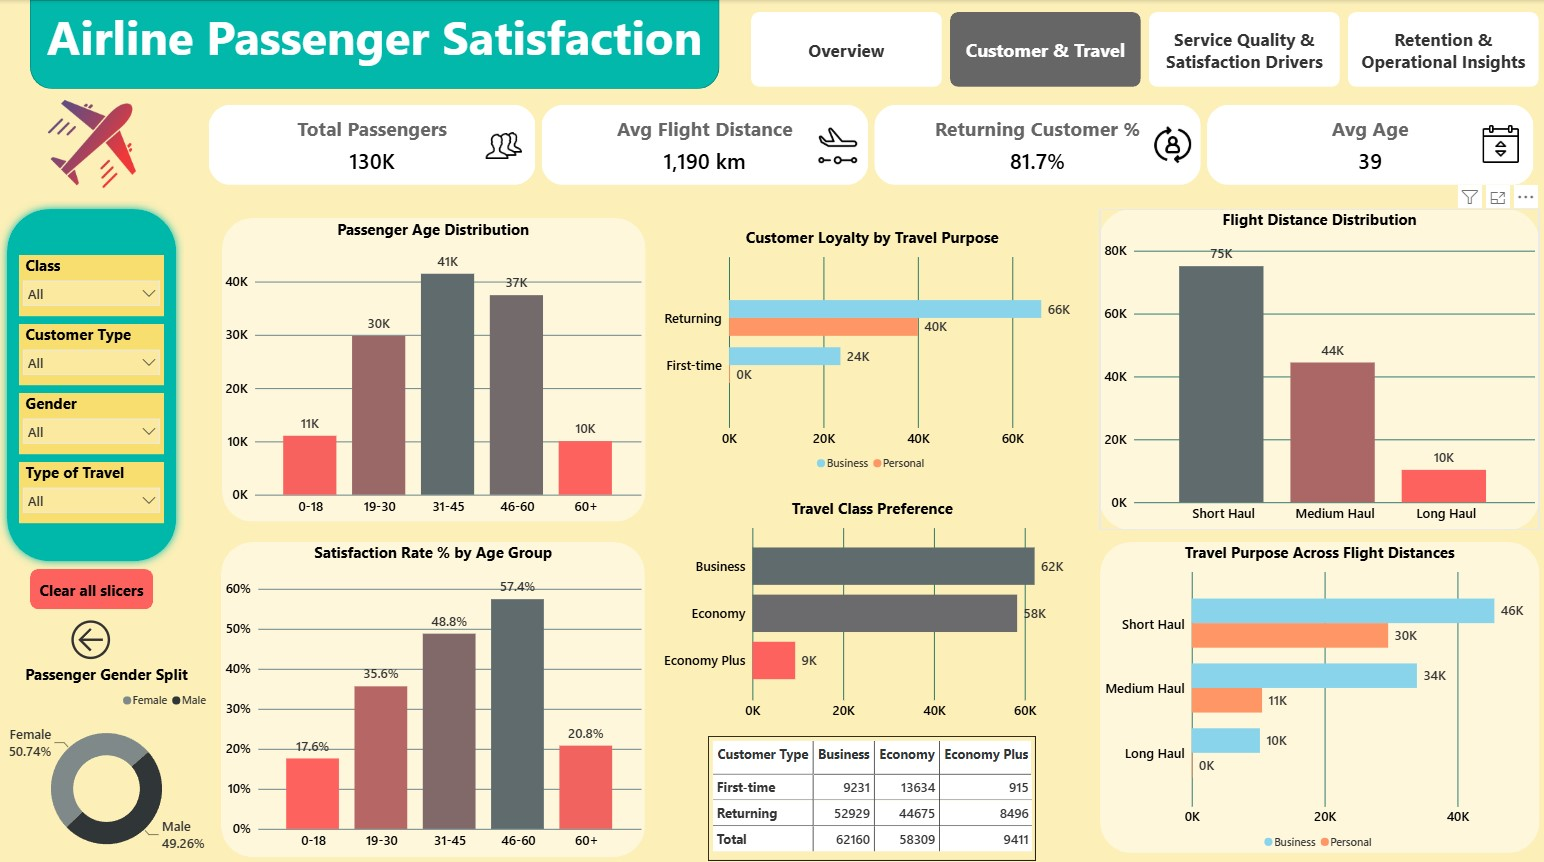

What the dashboard file says about the page in this screenshot:
{"tool":"powerbi","page":{"name":"Customer & Travel","canvas":[1920,1080],"ordinal":1},"visuals":[{"type":"group","id":"g1","title":"Group 1","box":[38.2,0,854.8,110.6],"z":0},{"type":"shape","box":[38.2,0,855.8,110.5],"z":0,"group":"g1"},{"type":"shape","box":[0,248.9,230,457.1],"z":0,"group":"g9"},{"type":"group","id":"g2","title":"Group 5","box":[1365.8,259.5,546.6,399.1],"z":0,"group":"g11"},{"type":"group","id":"g3","title":"Group 5","box":[276.4,270,525.5,376.7],"z":0,"group":"g8"},{"type":"group","id":"g4","title":"Group 4","box":[275.8,673.2,525.5,391.2],"z":0,"group":"g10"},{"type":"group","id":"g5","title":"Group 5","box":[275.8,673.2,525.5,391.2],"z":0,"group":"g4"},{"type":"shape","box":[1365.8,259.5,546.6,399.1],"z":500,"group":"g2"},{"type":"shape","box":[276.4,270,526,377],"z":500,"group":"g3"},{"type":"shape","box":[1367.1,673,545.5,386.3],"z":500,"group":"g6"},{"type":"shape","box":[275.8,673.2,526.5,391.3],"z":500,"group":"g5"},{"type":"textbox","box":[38.2,0.3,855.8,109.1],"z":1000,"group":"g1"},{"type":"pageNavigator","box":[933.8,14.5,978.6,93.5],"z":1000},{"type":"group","id":"g6","title":"Group 5","box":[1367.1,673,545.3,391.2],"z":1000,"group":"g12"},{"type":"group","id":"g7","title":"Group 3","box":[0,248.9,230.5,575.6],"z":2000},{"type":"cardVisual","fields":{"Data":[" Measures.Total Passengers"," Measures.Avg Flight Distance Label"," Measures.Returning Customer %"," Measures.Avg Age"]},"box":[255.9,125.9,1657.1,109.1],"z":3000},{"type":"donutChart","title":"Passenger Gender Split","fields":{"Y":[" Measures.Total Passengers"],"Category":["airline_passenger_satisfaction.Gender"]},"box":[0,824.5,266.9,255.7],"z":4000},{"type":"clusteredColumnChart","title":"Passenger Age Distribution","fields":{"Category":["airline_passenger_satisfaction.Age Group"],"Y":[" Measures.Total Passengers"]},"box":[275.3,271.2,526.8,377.3],"z":5000,"group":"g8"},{"type":"clusteredBarChart","title":"Customer Loyalty by Travel Purpose","fields":{"Series":["airline_passenger_satisfaction.Type of Travel"],"Category":["airline_passenger_satisfaction.Customer Type"],"Y":[" Measures.Total Passengers"]},"box":[819.2,281.9,529.5,312.1],"z":5000},{"type":"barChart","title":"Travel Class Preference","fields":{"Category":["airline_passenger_satisfaction.Class"],"Y":[" Measures.Total Passengers"]},"box":[819.2,617.7,529.5,284.5],"z":6000},{"type":"slicer","fields":{"Values":["airline_passenger_satisfaction.Class"]},"box":[24.8,315.7,180.4,75.5],"z":7000,"group":"g9"},{"type":"actionButton","box":[38.6,706,152.9,50],"z":7000,"group":"g7"},{"type":"pivotTable","fields":{"Rows":["airline_passenger_satisfaction.Customer Type"],"Columns":["airline_passenger_satisfaction.Class"],"Values":[" Measures.Total Passengers"]},"box":[879.8,914,407,155.4],"z":7000},{"type":"group","id":"g8","title":"Group 4","box":[275.3,270,526.8,378],"z":8000},{"type":"group","id":"g9","title":"Group 2","box":[0,248.9,230,457.1],"z":9000,"group":"g7"},{"type":"columnChart","title":"Flight Distance Distribution","fields":{"Y":[" Measures.Total Passengers"],"Category":["airline_passenger_satisfaction.Flight Distance Category"]},"box":[1366.5,259.5,545.3,399.1],"z":9000,"group":"g11"},{"type":"slicer","fields":{"Values":["airline_passenger_satisfaction.Customer Type"]},"box":[24.8,401.5,180.4,75.5],"z":9000,"group":"g9"},{"type":"group","id":"g10","title":"Group 6","box":[275.3,673,526.8,391.2],"z":9000},{"type":"group","id":"g11","title":"Group 7","box":[1365.8,259.5,546.6,399.1],"z":10000},{"type":"slicer","fields":{"Values":["airline_passenger_satisfaction.Gender"]},"box":[24.8,487.2,180.4,75.5],"z":10000,"group":"g9"},{"type":"clusteredBarChart","title":"Travel Purpose Across Flight Distances","fields":{"Category":["airline_passenger_satisfaction.Flight Distance Category"],"Y":[" Measures.Total Passengers"],"Series":["airline_passenger_satisfaction.Type of Travel"]},"box":[1367.1,673,545.3,391.2],"z":10000,"group":"g12"},{"type":"actionButton","box":[82.9,763.2,64.3,61.4],"z":10000,"group":"g7"},{"type":"slicer","fields":{"Values":["airline_passenger_satisfaction.Type of Travel"]},"box":[24.8,573,180.4,75.5],"z":11000,"group":"g9"},{"type":"group","id":"g12","title":"Group 8","box":[1367.1,673,545.3,391.2],"z":11000},{"type":"image","box":[52.9,117.1,124.3,124.3],"z":12000},{"type":"image","box":[597.1,150,58.6,58.6],"z":13000},{"type":"clusteredColumnChart","fields":{"Category":["airline_passenger_satisfaction.Age Group"],"Y":[" Measures.Satisfaction Rate %"]},"box":[275.3,673,526.8,391.2],"z":13000,"group":"g10"},{"type":"image","box":[1427.1,150,58.6,58.6],"z":14000},{"type":"image","box":[1834.3,150,58.6,58.6],"z":15000},{"type":"image","box":[1011.4,150,58.6,58.6],"z":16000}]}

Visuals, with their boxes in screenshot pixels (x1, y1, x2, y2), scaled from the page's 1920x1080 canvas onto the 1544x862 screenshot:
"Group 1" group: x1=31, y1=0, x2=718, y2=88
shape: x1=31, y1=0, x2=719, y2=88
shape: x1=0, y1=199, x2=185, y2=563
"Group 5" group: x1=1098, y1=207, x2=1538, y2=526
"Group 5" group: x1=222, y1=216, x2=645, y2=516
"Group 4" group: x1=222, y1=537, x2=644, y2=850
"Group 5" group: x1=222, y1=537, x2=644, y2=850
shape: x1=1098, y1=207, x2=1538, y2=526
shape: x1=222, y1=216, x2=645, y2=516
shape: x1=1099, y1=537, x2=1538, y2=845
shape: x1=222, y1=537, x2=645, y2=850
textbox: x1=31, y1=0, x2=719, y2=87
pageNavigator: x1=751, y1=12, x2=1538, y2=86
"Group 5" group: x1=1099, y1=537, x2=1538, y2=849
"Group 3" group: x1=0, y1=199, x2=185, y2=658
cardVisual -  Measures.Total Passengers x  Measures.Avg Flight Distance Label: x1=206, y1=100, x2=1538, y2=188
"Passenger Gender Split" donutChart: x1=0, y1=658, x2=215, y2=861
"Passenger Age Distribution" clusteredColumnChart: x1=221, y1=216, x2=645, y2=518
"Customer Loyalty by Travel Purpose" clusteredBarChart: x1=659, y1=225, x2=1085, y2=474
"Travel Class Preference" barChart: x1=659, y1=493, x2=1085, y2=720
slicer - airline_passenger_satisfaction.Class: x1=20, y1=252, x2=165, y2=312
actionButton: x1=31, y1=563, x2=154, y2=603
pivotTable - airline_passenger_satisfaction.Customer Type x airline_passenger_satisfaction.Class: x1=708, y1=730, x2=1035, y2=854
"Group 4" group: x1=221, y1=216, x2=645, y2=517
"Group 2" group: x1=0, y1=199, x2=185, y2=563
"Flight Distance Distribution" columnChart: x1=1099, y1=207, x2=1537, y2=526
slicer - airline_passenger_satisfaction.Customer Type: x1=20, y1=320, x2=165, y2=381
"Group 6" group: x1=221, y1=537, x2=645, y2=849
"Group 7" group: x1=1098, y1=207, x2=1538, y2=526
slicer - airline_passenger_satisfaction.Gender: x1=20, y1=389, x2=165, y2=449
"Travel Purpose Across Flight Distances" clusteredBarChart: x1=1099, y1=537, x2=1538, y2=849
actionButton: x1=67, y1=609, x2=118, y2=658
slicer - airline_passenger_satisfaction.Type of Travel: x1=20, y1=457, x2=165, y2=518
"Group 8" group: x1=1099, y1=537, x2=1538, y2=849
image: x1=43, y1=93, x2=142, y2=193
image: x1=480, y1=120, x2=527, y2=166
clusteredColumnChart - airline_passenger_satisfaction.Age Group x  Measures.Satisfaction Rate %: x1=221, y1=537, x2=645, y2=849
image: x1=1148, y1=120, x2=1195, y2=166
image: x1=1475, y1=120, x2=1522, y2=166
image: x1=813, y1=120, x2=860, y2=166
